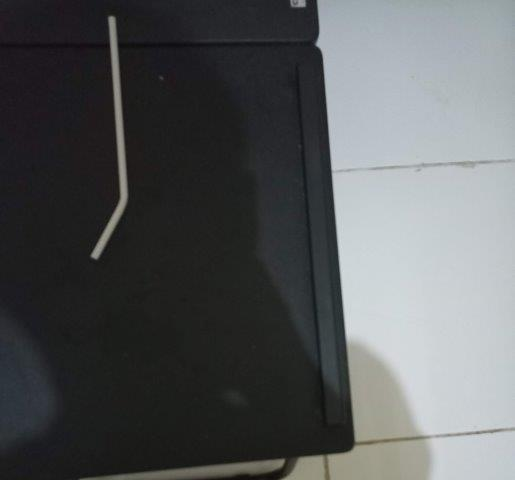sedotan: (88, 16, 129, 261)
